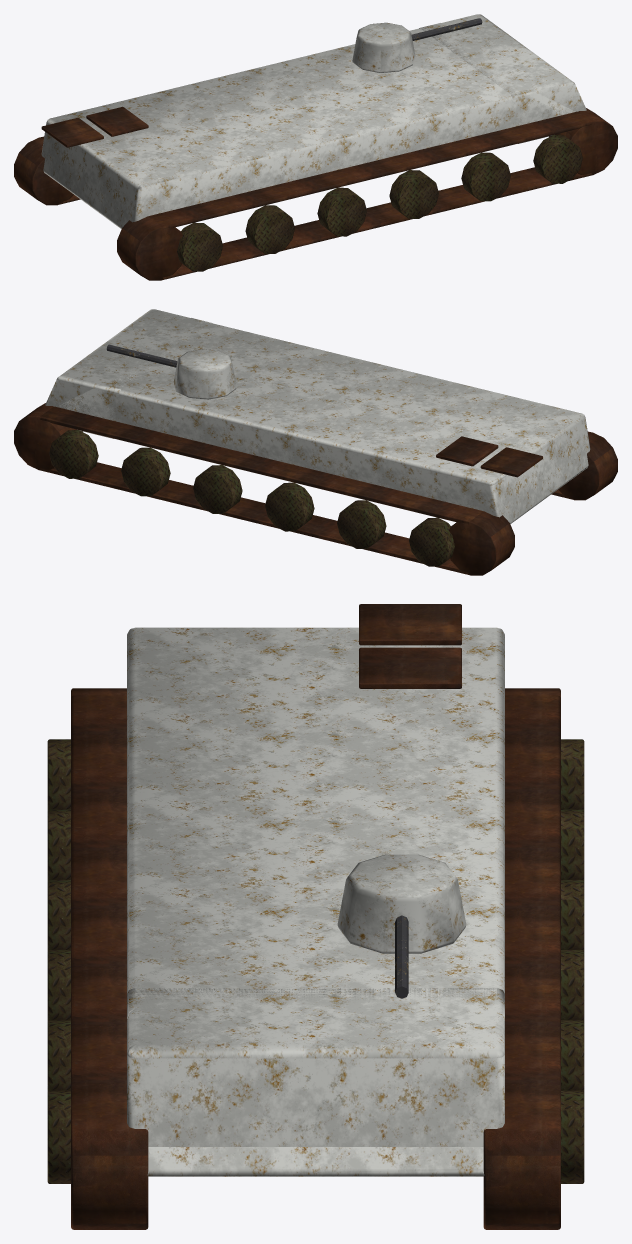
Rendered from veh_mtlb.gltf.
The picture shows the model from 3 angles, top to bottom: view 1: azimuth 30°, elevation 25°; view 2: azimuth 150°, elevation 25°; view 3: azimuth 270°, elevation 25°; orthographic projection. The views are drawn at different scales.
Parts seen in each view (by area): view 1: box.004, box.001, box, cyl, cyl.016, box.005, cyl.001, cyl.008, cyl.006, cyl.004, cyl.003, cyl.005 (+5 smaller); view 2: box.004, box.003, box.002, cyl.008, cyl.016, cyl.009, cyl, cyl.014, cyl.012, cyl.011, cyl.013, cyl.015 (+5 smaller); view 3: box.004, box.001, box.003, box.005, cyl.016, cyl.001, cyl.009, box.006, box.007, cyl.007, cyl.015, cyl.003 (+10 smaller).
Part boxes in pixels (bbox=[...]): box.004: bbox=[41, 14, 586, 228]; box.001: bbox=[148, 111, 591, 229]; box: bbox=[163, 167, 591, 279]; cyl: bbox=[117, 216, 182, 280]; cyl.016: bbox=[352, 22, 415, 72]; box.005: bbox=[419, 23, 575, 143]; cyl.001: bbox=[549, 108, 617, 175]; cyl.008: bbox=[14, 137, 73, 205]; cyl.006: bbox=[461, 152, 510, 201]; cyl.004: bbox=[317, 187, 366, 236]; cyl.003: bbox=[245, 205, 294, 253]; cyl.005: bbox=[389, 170, 438, 218]; box.004: bbox=[45, 309, 590, 523]; box.003: bbox=[40, 406, 483, 524]; box.002: bbox=[40, 462, 468, 574]; cyl.008: bbox=[449, 511, 514, 575]; cyl.016: bbox=[173, 349, 236, 399]; cyl.009: bbox=[14, 403, 82, 470]; cyl: bbox=[558, 432, 617, 500]; cyl.014: bbox=[121, 447, 170, 496]; cyl.012: bbox=[265, 482, 314, 531]; cyl.011: bbox=[337, 500, 386, 548]; cyl.013: bbox=[193, 465, 242, 513]; cyl.015: bbox=[49, 430, 98, 478]; box.004: bbox=[127, 627, 504, 1146]; box.001: bbox=[71, 695, 126, 1116]; box.003: bbox=[505, 695, 560, 1116]; box.005: bbox=[127, 988, 504, 1176]; cyl.016: bbox=[337, 854, 466, 953]; cyl.001: bbox=[71, 1114, 148, 1229]; cyl.009: bbox=[483, 1114, 560, 1229]; box.006: bbox=[359, 604, 461, 645]; box.007: bbox=[359, 647, 461, 688]; cyl.007: bbox=[47, 1090, 70, 1183]; cyl.015: bbox=[561, 1090, 584, 1183]; cyl.003: bbox=[47, 809, 70, 881].
Bounding box in the file's own units: 6.48 × 1.45 × 3.12.
Materials: 4 (4 with a texture image).
